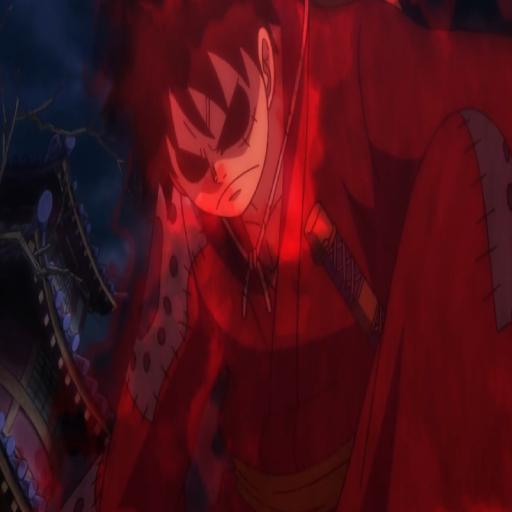Luffy: (97, 0, 512, 512)
